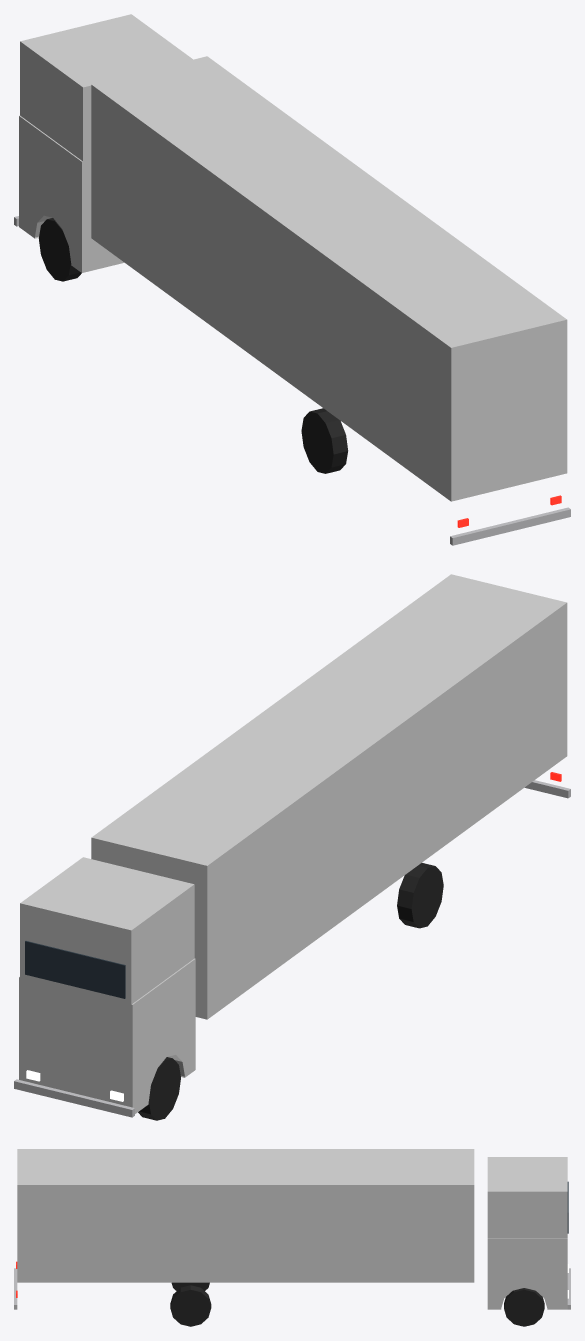
File: semi.glb
The picture shows the model from 3 angles, top to bottom: view 1: azimuth 30°, elevation 25°; view 2: azimuth 150°, elevation 25°; view 3: azimuth 270°, elevation 25°; orthographic projection. The views are drawn at different scales.
Parts seen in each view (by area): view 1: trailer, cab_top, body, WHEEL_RL, WHEEL_FL, bumper_r; view 2: trailer, body, cab_top, windscreen, WHEEL_RL, WHEEL_FL, bumper_f; view 3: trailer, cab_top, body, WHEEL_RR, WHEEL_FR.
Part boxes in pixels (x1,y1,x2,y2): trailer: (91, 56, 567, 501); cab_top: (20, 14, 192, 161); body: (19, 115, 124, 272); WHEEL_RL: (301, 408, 348, 473); WHEEL_FL: (38, 218, 81, 281); bumper_r: (450, 507, 570, 545); trailer: (91, 574, 567, 1019); body: (19, 958, 195, 1113); cab_top: (20, 857, 194, 1004); windscreen: (25, 941, 125, 998); WHEEL_RL: (397, 863, 443, 928); WHEEL_FL: (138, 1057, 180, 1120); bumper_f: (14, 1079, 134, 1117); trailer: (17, 1149, 474, 1282); cab_top: (487, 1157, 567, 1238); body: (487, 1238, 567, 1309); WHEEL_RR: (170, 1285, 211, 1326); WHEEL_FR: (504, 1288, 544, 1326).
Size of the model in its own units: 2.6 by 4.72 by 16.7.
